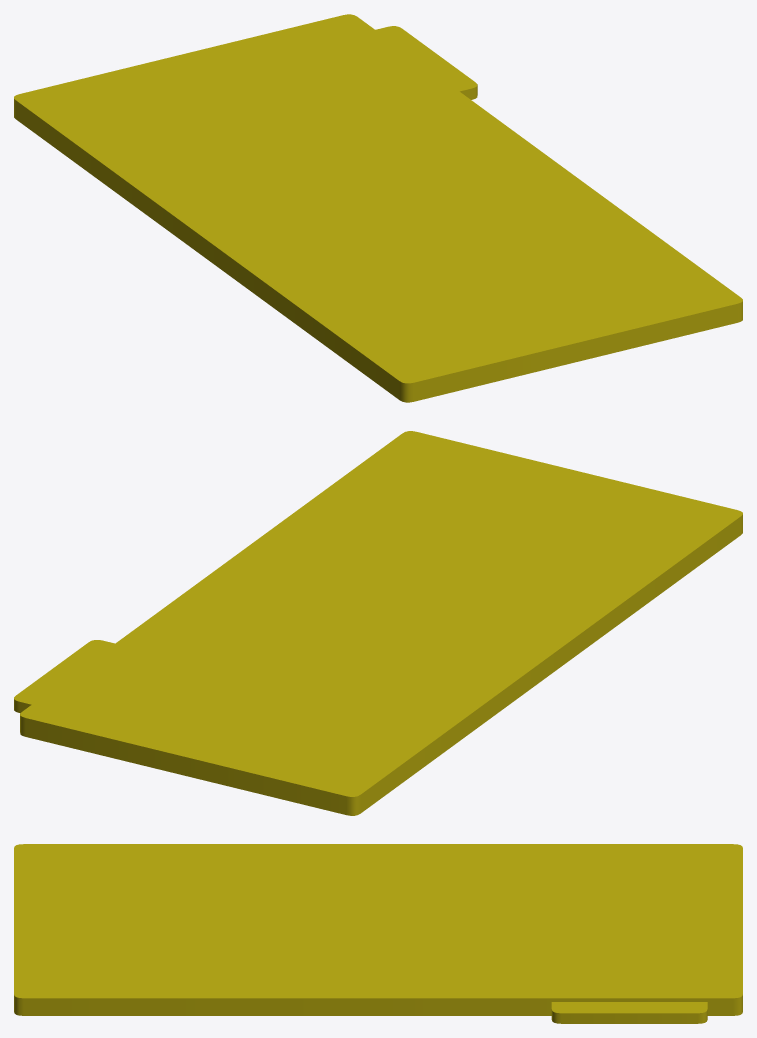
The model's file is cutting board.FBX.
3 views of the same model, one above another, from view 1: azimuth 30°, elevation 25°; view 2: azimuth 150°, elevation 25°; view 3: azimuth 270°, elevation 25° (orthographic). The views are drawn at different scales.
Parts seen in each view (by area): view 1: Box006; view 2: Box006; view 3: Box006.
Boxes of the visible parts, x1,y1,x2,y2 form: Box006: (14, 14, 742, 402); Box006: (14, 431, 742, 815); Box006: (14, 844, 742, 1023).
Size of the model in its own units: 10.06 by 0.5 by 18.72.
